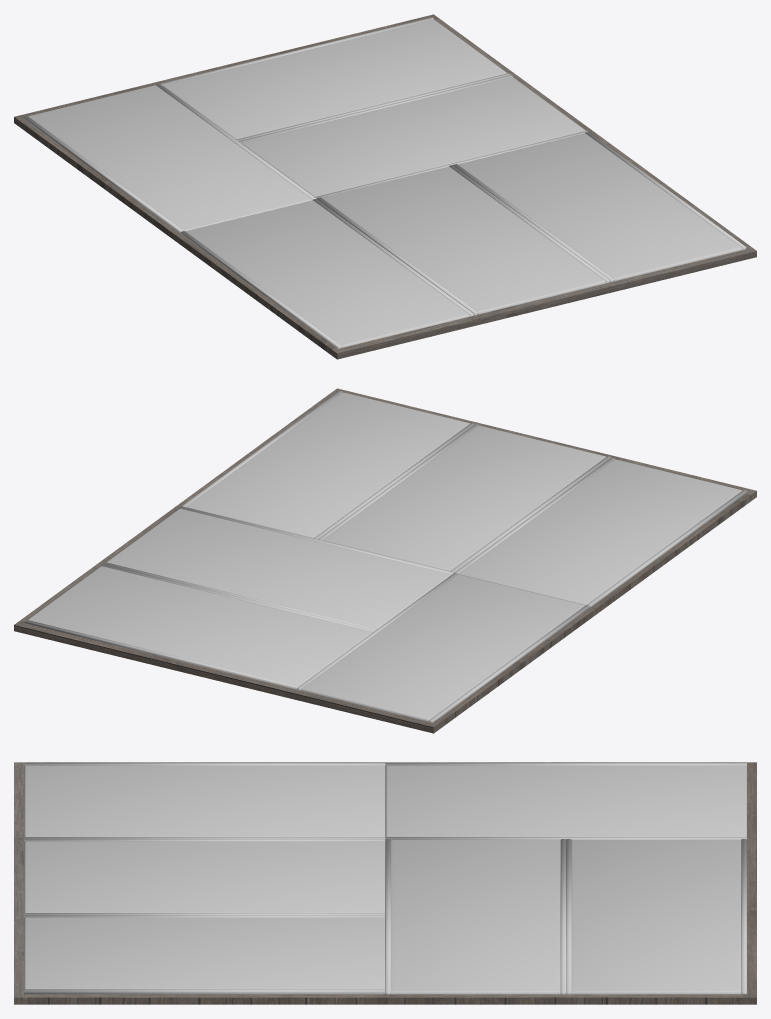
The model's file is jov_tatami_6t.fbx.
3 renders of one model, top to bottom at view 1: azimuth 30°, elevation 25°; view 2: azimuth 150°, elevation 25°; view 3: azimuth 270°, elevation 25°, orthographic. The views are drawn at different scales.
Parts seen in each view (by area): view 1: jov_tatami_6t; view 2: jov_tatami_6t; view 3: jov_tatami_6t.
Boxes of the visible parts, <box> form: jov_tatami_6t: <box>14,14,756,359</box>; jov_tatami_6t: <box>14,388,756,733</box>; jov_tatami_6t: <box>14,762,756,1004</box>.
Bounding box in the file's own units: 330 × 6.59 × 440.
